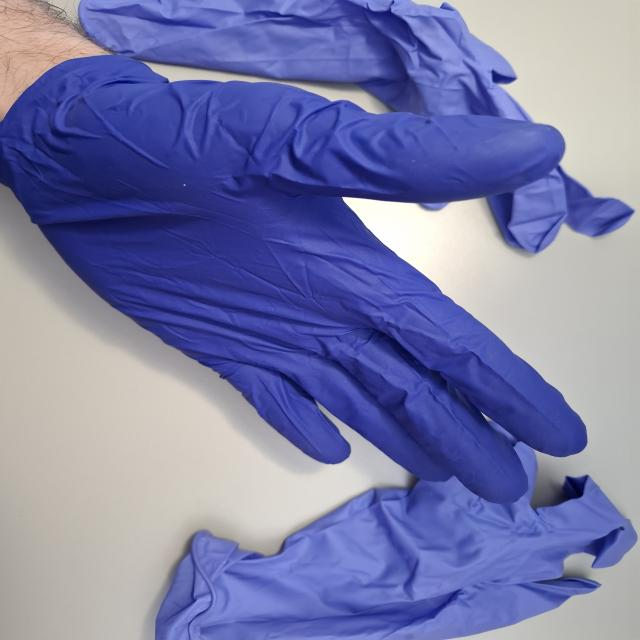glove_on: (0, 44, 596, 508)
